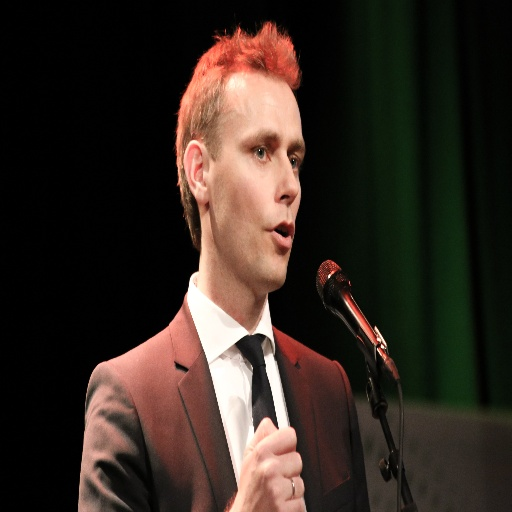hand: (237, 416, 304, 511)
